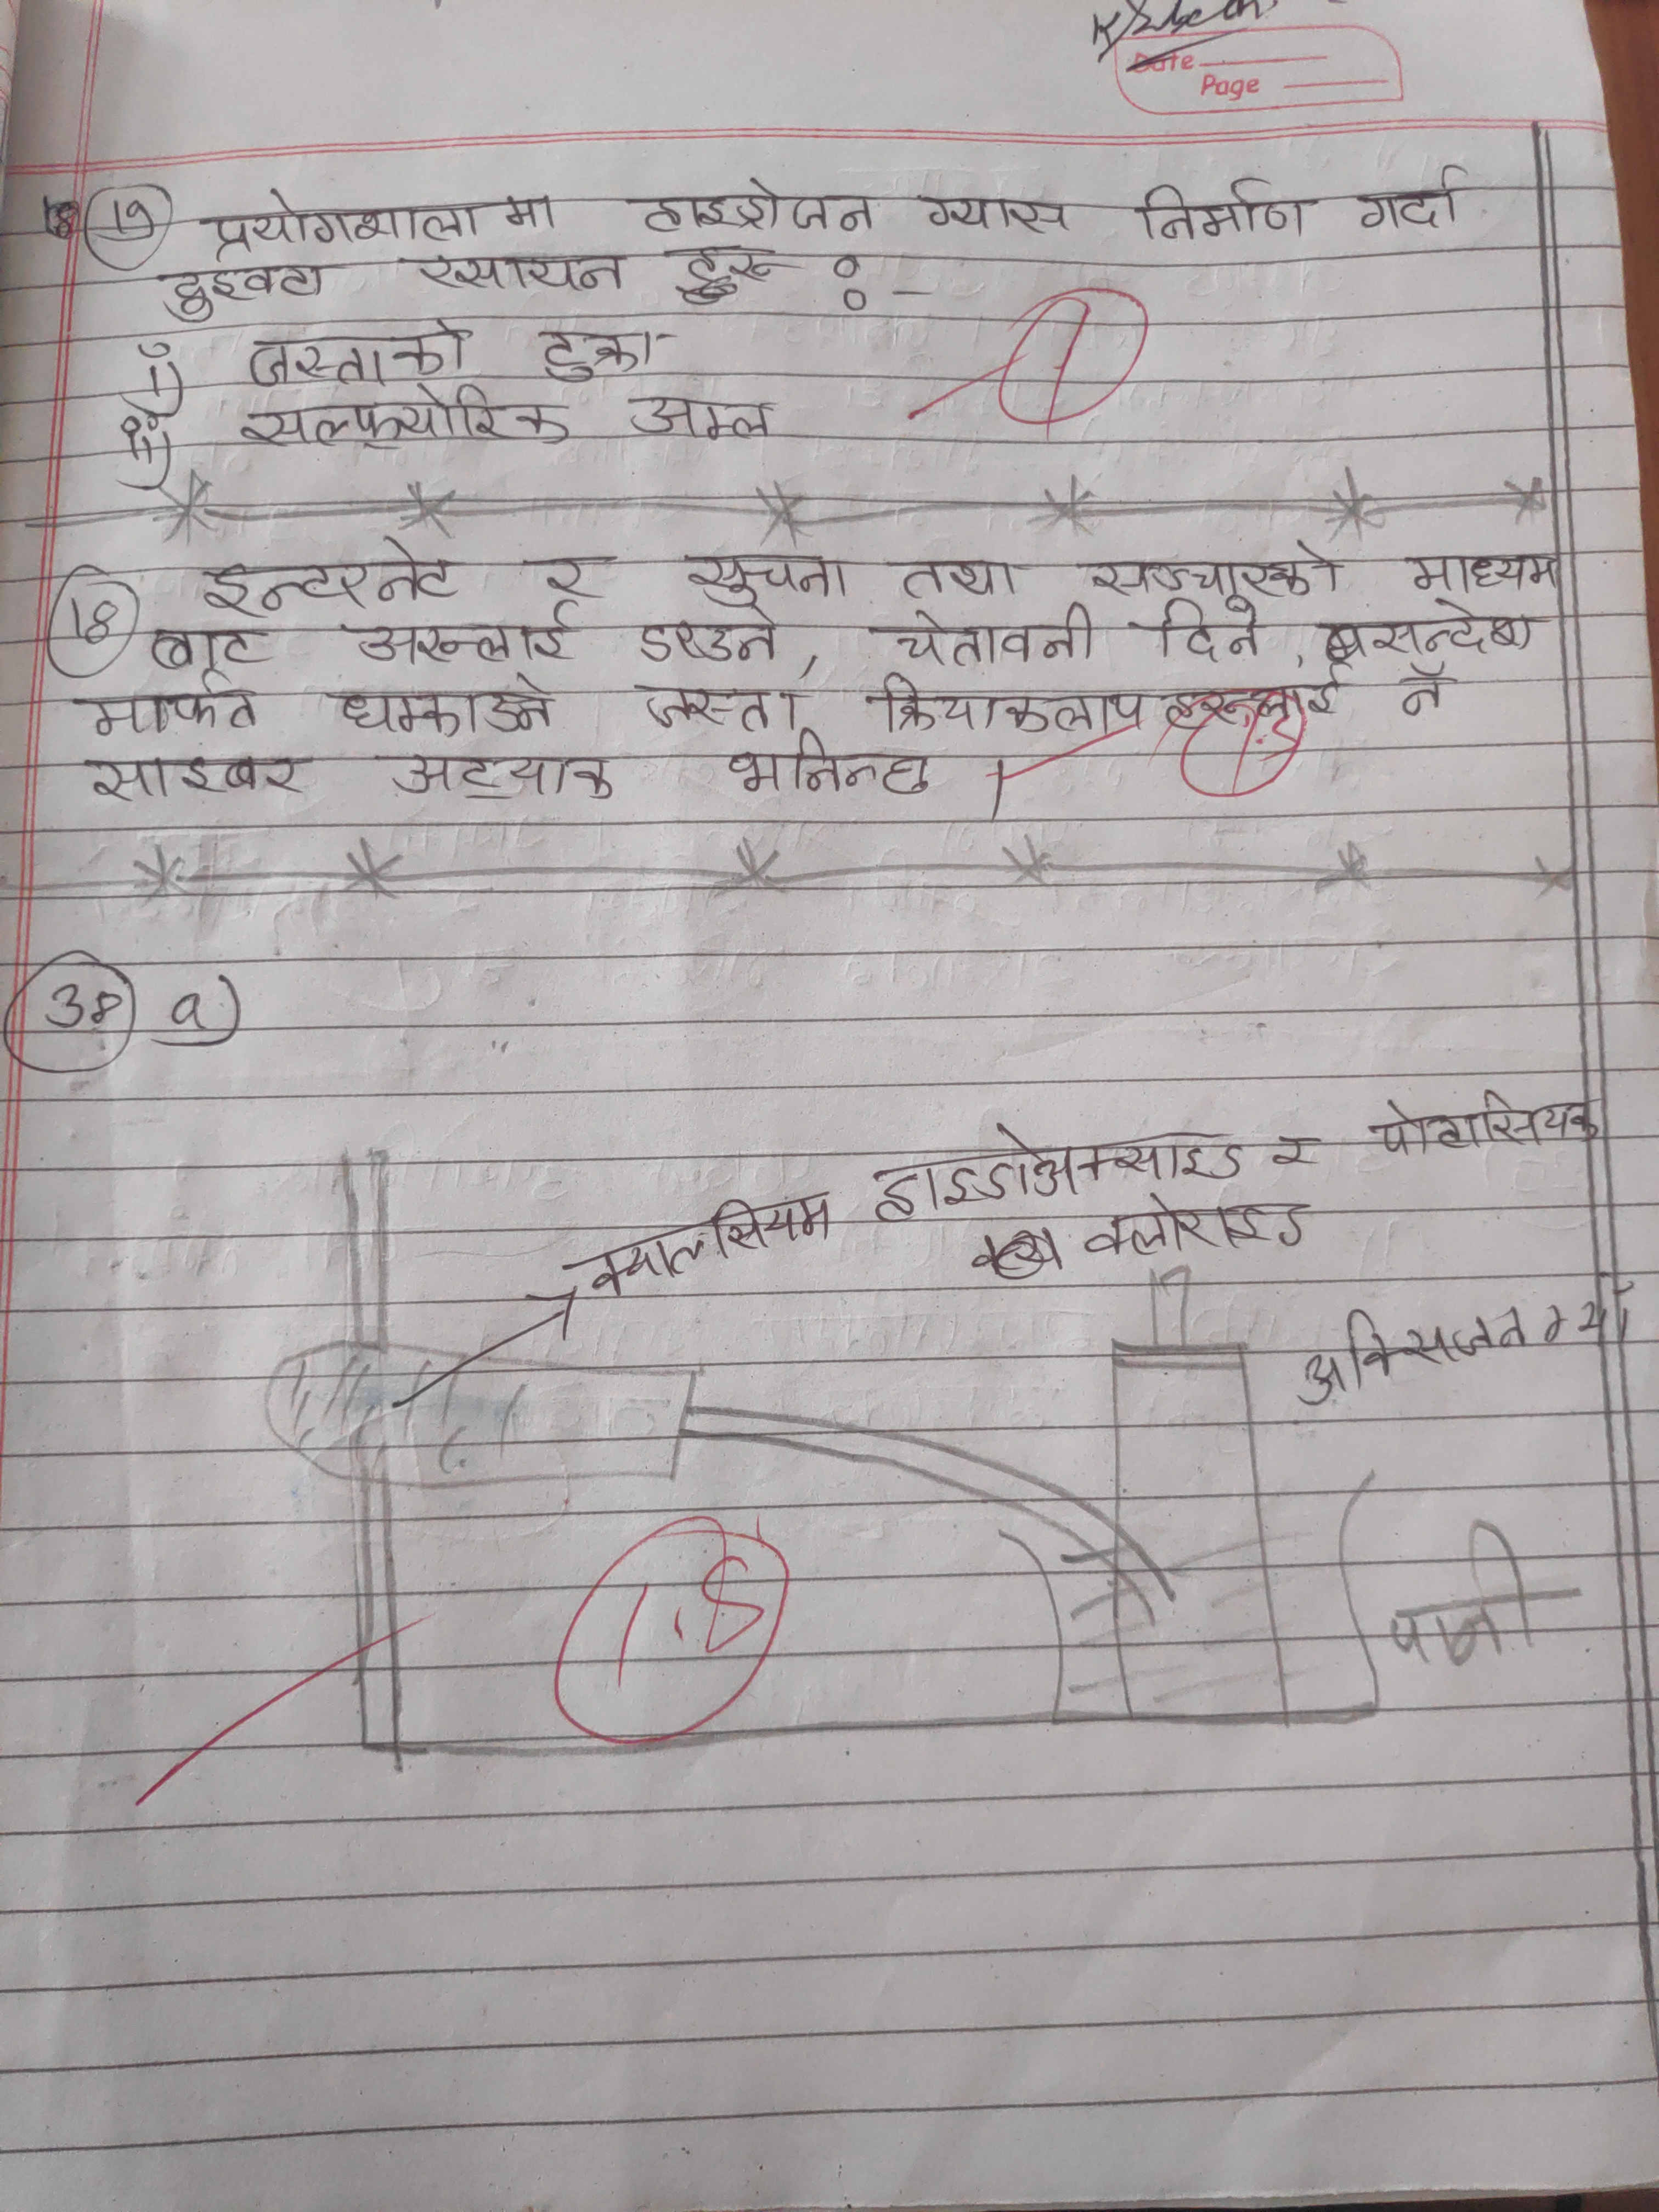text: (1298, 1299, 1635, 1402), (868, 1127, 1244, 1212), (1382, 1521, 1586, 1676), (866, 671, 1340, 735), (559, 1190, 840, 1294), (192, 531, 457, 620), (235, 383, 572, 446), (207, 188, 479, 258), (1368, 1087, 1605, 1163), (387, 744, 633, 806), (338, 674, 563, 742), (1089, 538, 1337, 599), (350, 606, 587, 669), (634, 178, 875, 235), (246, 322, 471, 383), (875, 606, 1105, 665), (676, 543, 861, 617), (1131, 174, 1314, 247), (1324, 601, 1542, 660), (723, 738, 932, 799), (87, 745, 319, 799), (84, 672, 258, 742), (1080, 1197, 1274, 1259), (645, 669, 812, 738), (532, 310, 666, 387), (640, 603, 779, 674), (413, 249, 626, 294), (626, 390, 782, 449), (1138, 594, 1270, 664), (1349, 160, 1478, 232), (150, 272, 331, 320), (1396, 549, 1568, 599), (922, 186, 1077, 242), (676, 239, 793, 310), (894, 550, 1030, 611), (134, 617, 261, 671), (528, 550, 626, 610), (1392, 664, 1464, 723), (504, 186, 563, 235), (1272, 1127, 1323, 1174)
